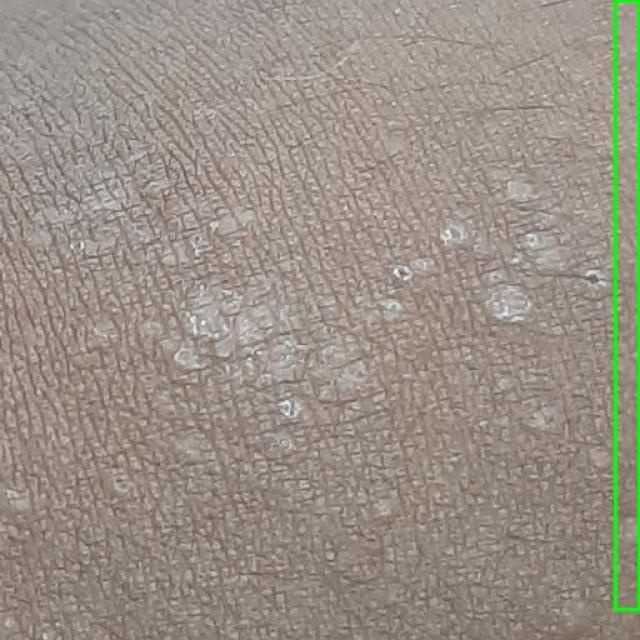Atopic Dermatitis: (615, 0, 639, 609)
